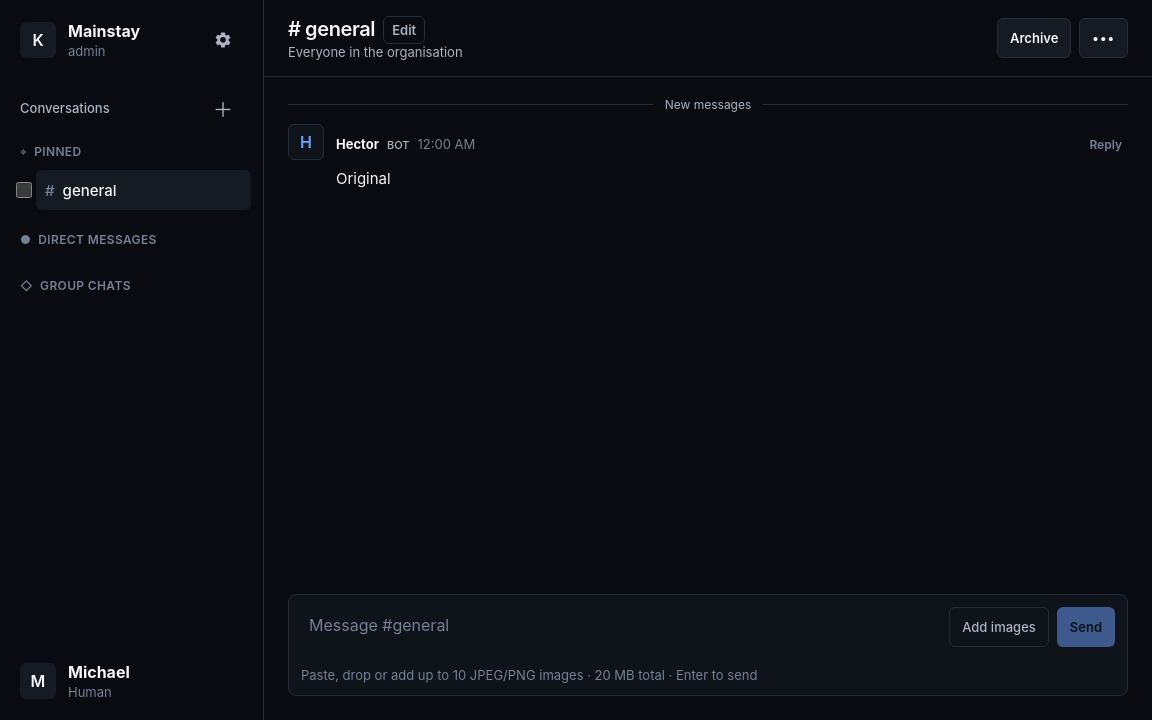
Test: K-Mainstay UI › posts a selected reply and archives the conversation
Click the button with test id "reply-message" at (1106, 144), box [1083,124,1128,164]
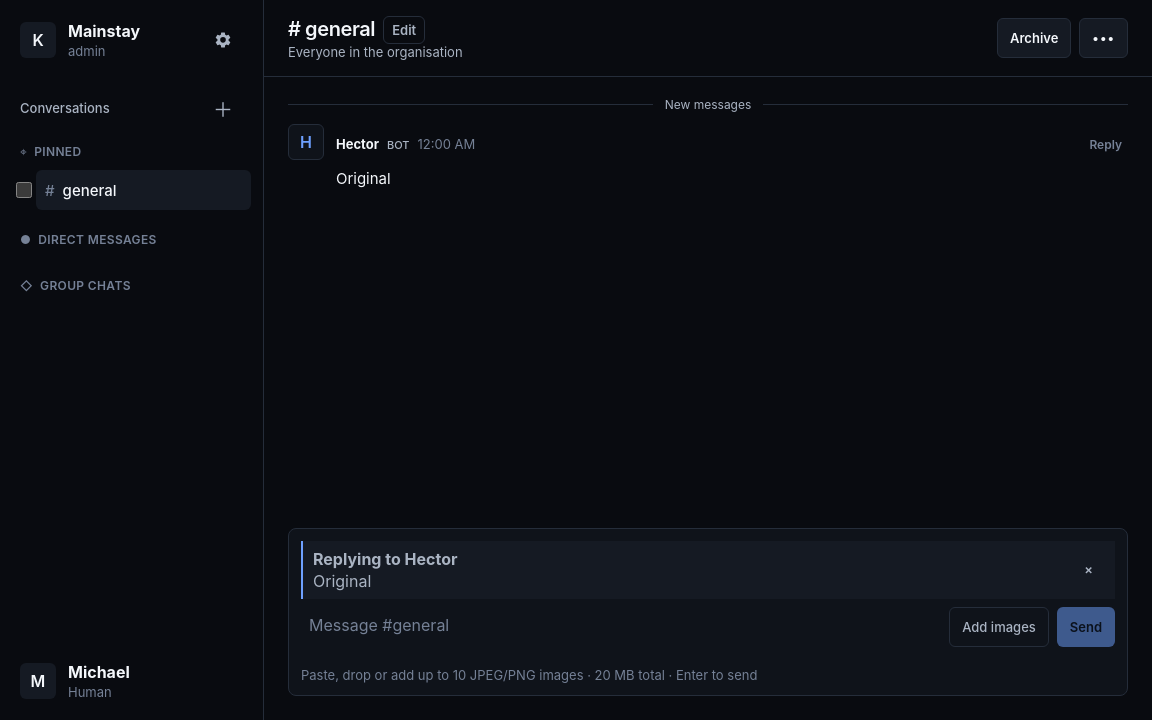
Type "Answer" into the dropdown with placeholder "Message #general" at (621, 631), box [301,607,941,655]
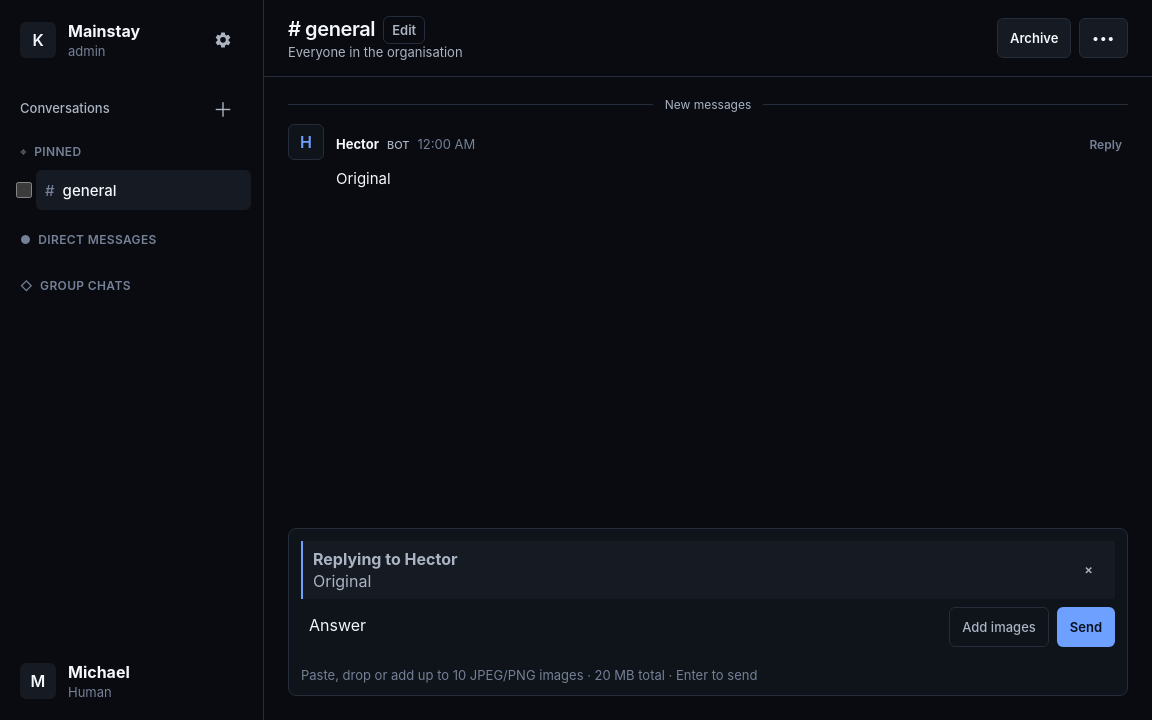
Submit the form with test id "composer", box [288,528,1128,696]
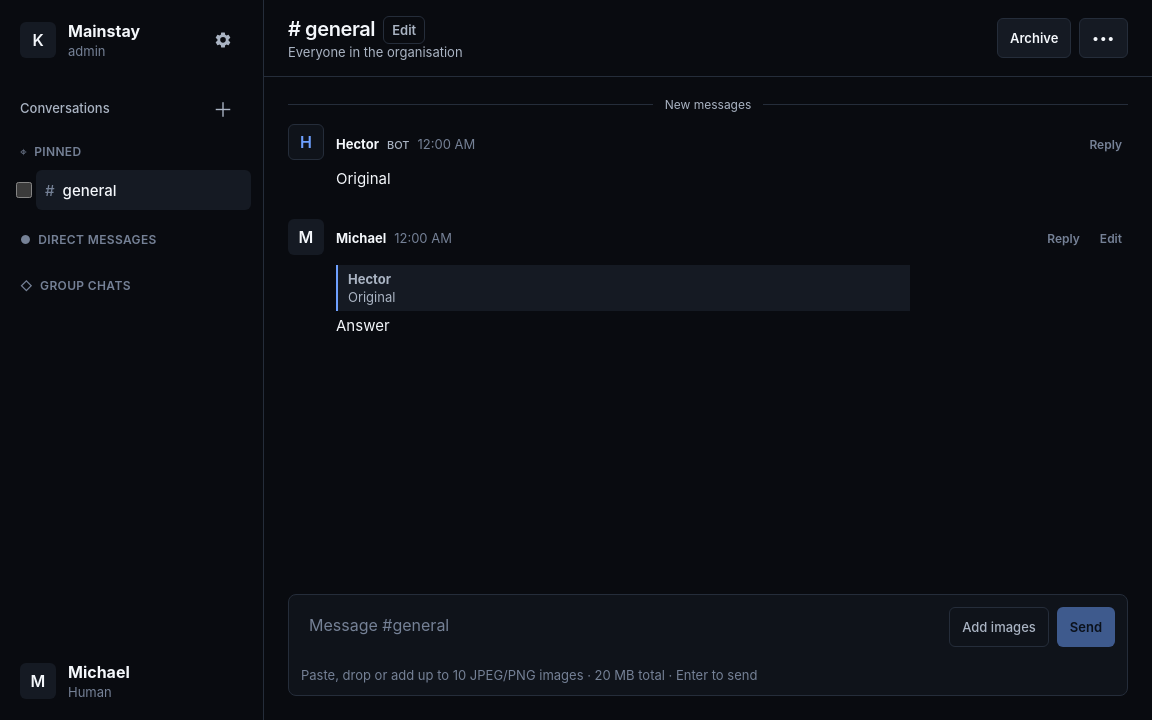
Click the button with test id "archive-conversation" at (1034, 38), box [997,18,1071,58]
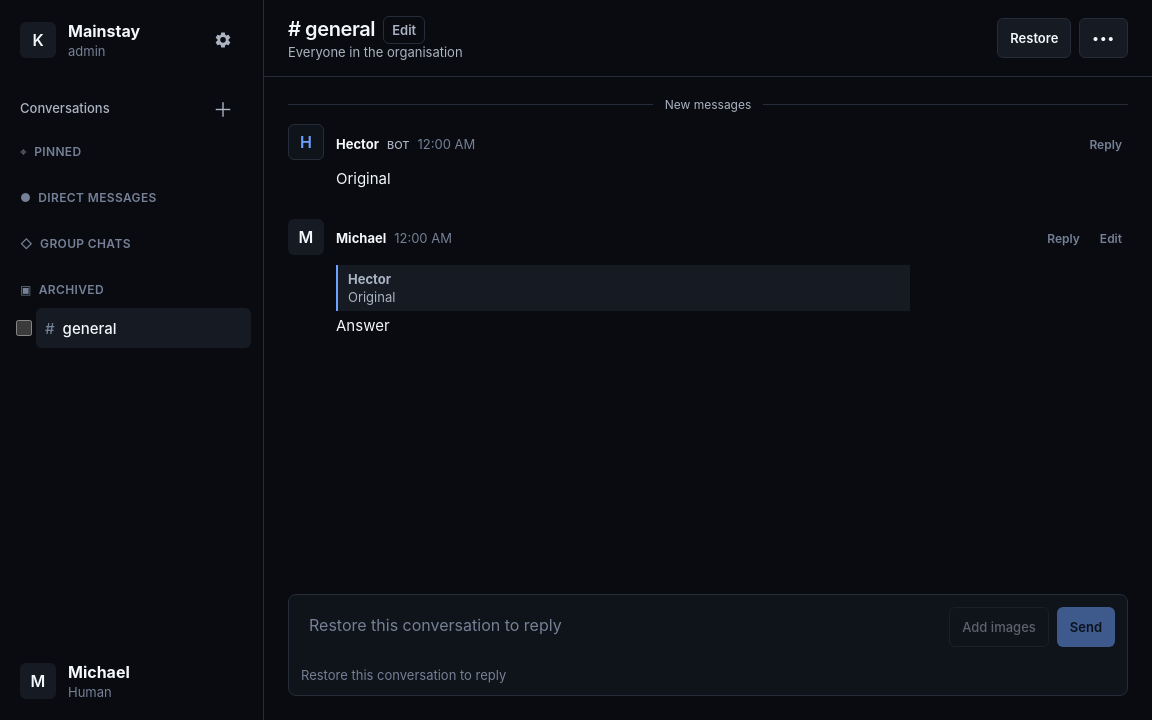
Now the element with test id "archived-conversations" shows "general", box [36,308,251,348]
